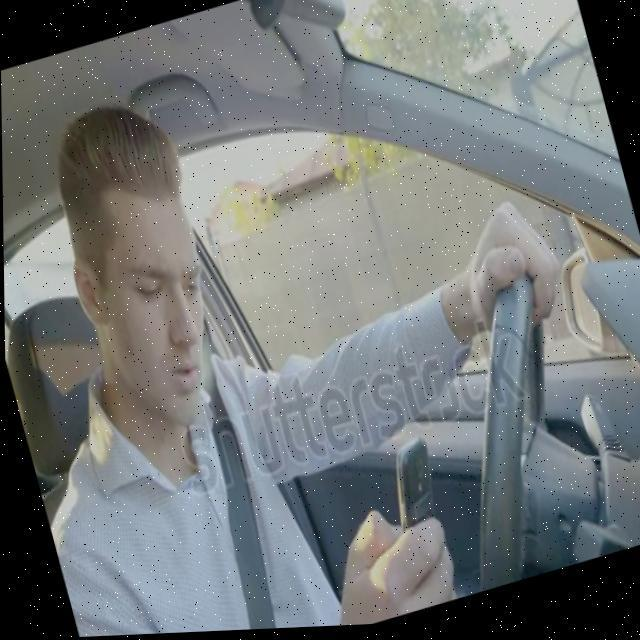PhoneCall: (376, 437, 459, 599)
